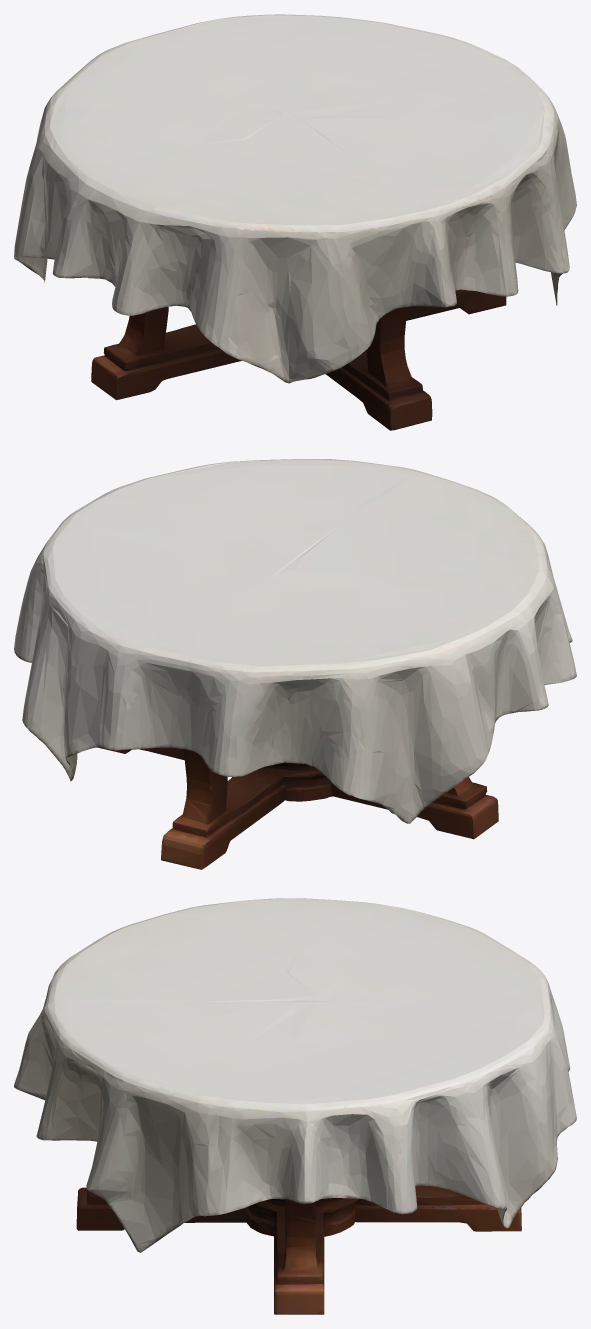
The model's file is ballroom_table.glb.
3 renders of one model, top to bottom at view 1: azimuth 30°, elevation 25°; view 2: azimuth 150°, elevation 25°; view 3: azimuth 270°, elevation 25°, orthographic.
Visible parts, largest first — view 1: geometry_0; view 2: geometry_0; view 3: geometry_0.
Part boxes in pixels (x1,y1,x2,y2): geometry_0: (14,14,576,430); geometry_0: (14,459,576,869); geometry_0: (14,898,576,1314).
Size of the model in its own units: 0.9968 by 0.4274 by 0.9868.
1 material, 1 textured.
